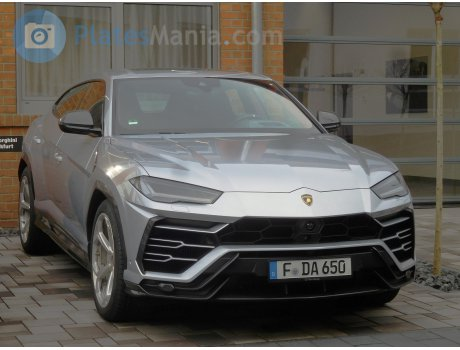License Plates: (274, 259, 348, 272)
